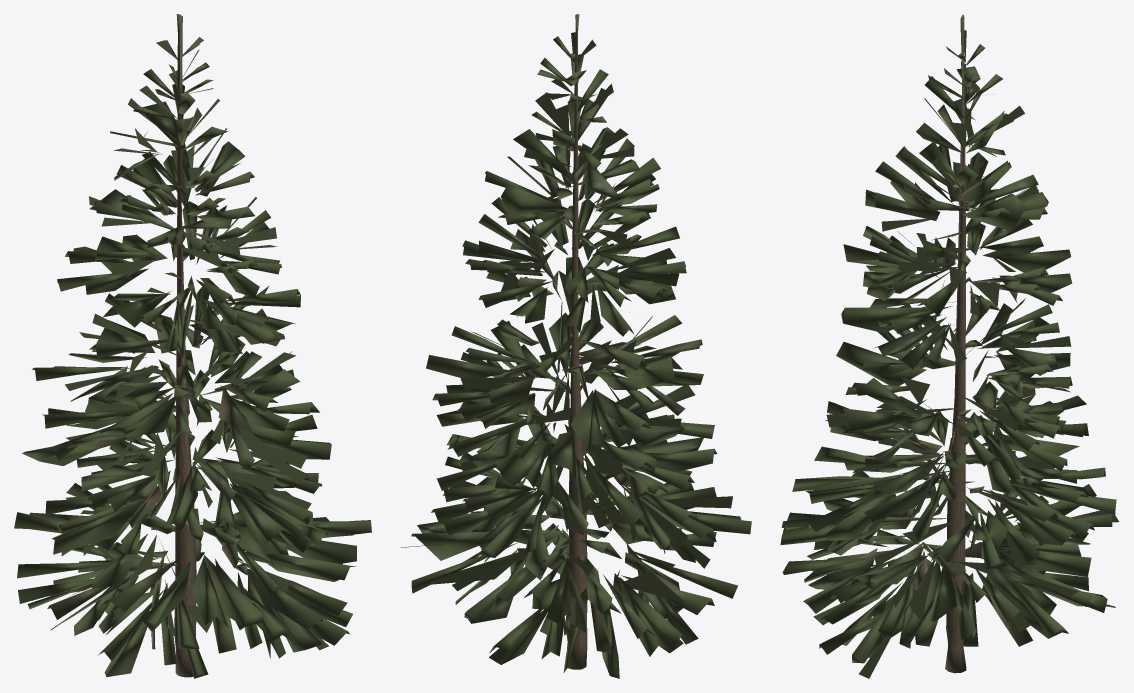
The model's file is pine-a.glb.
3 renders of one model, left to right at view 1: azimuth 30°, elevation 25°; view 2: azimuth 150°, elevation 25°; view 3: azimuth 270°, elevation 25°, orthographic.
Size of the model in its own units: 0.4409 by 0.9536 by 0.4497.
1 material, 1 textured.
